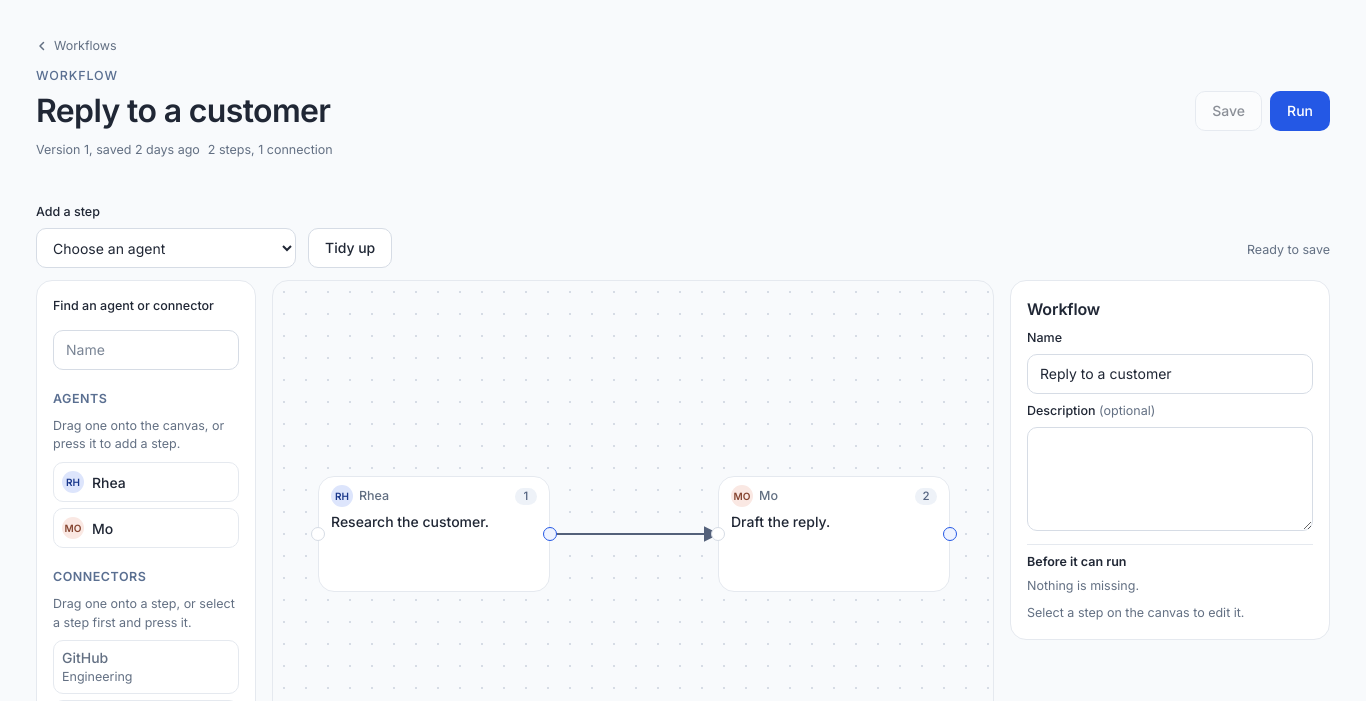
Test: Workflow editor › saves with the version it was loaded at, and shows the new version
expect the button with aria-label "Step 1:" is shown: met, box [318, 476, 550, 592]
Press Enter in the button with aria-label "Step 2:", box [718, 476, 950, 592]
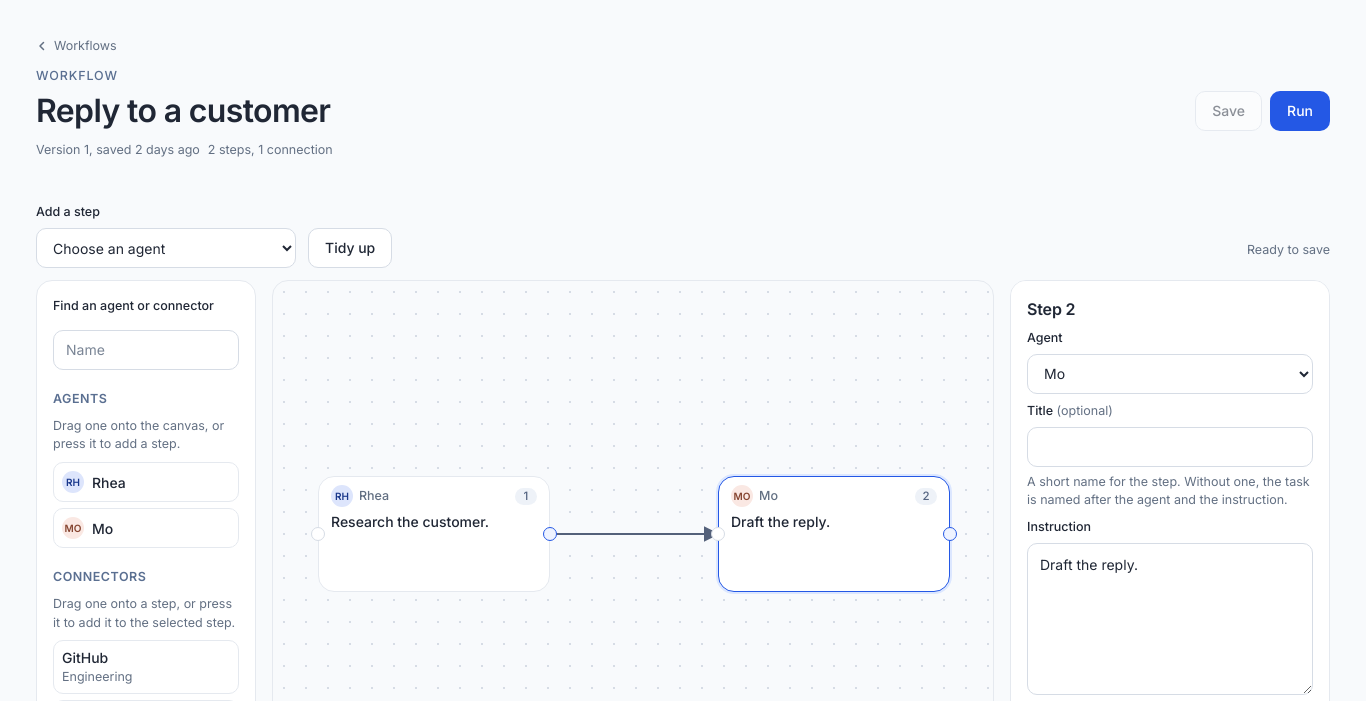
Replace the text in the text box labelled "Instruction" with "Draft a short reply." at (1170, 619), box [1027, 543, 1313, 695]
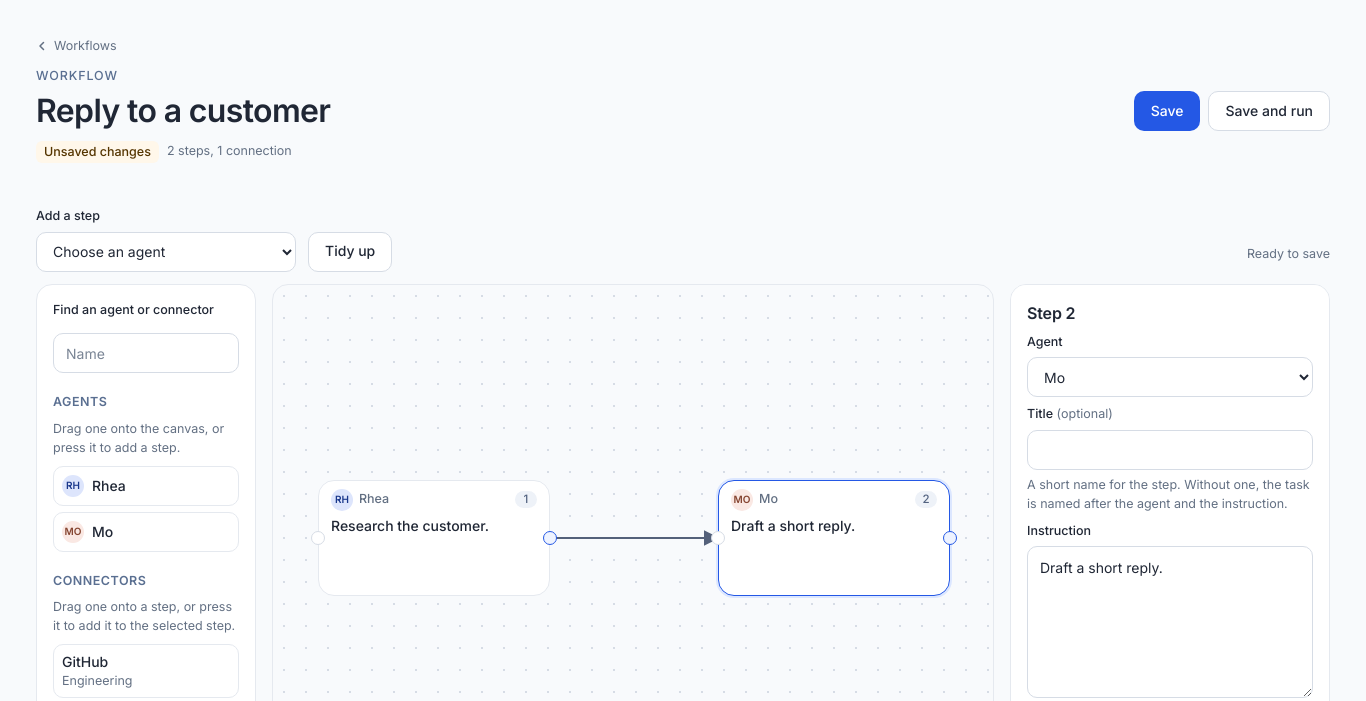
Click the button "Save".
click(1167, 111)  # box [1134, 91, 1200, 131]
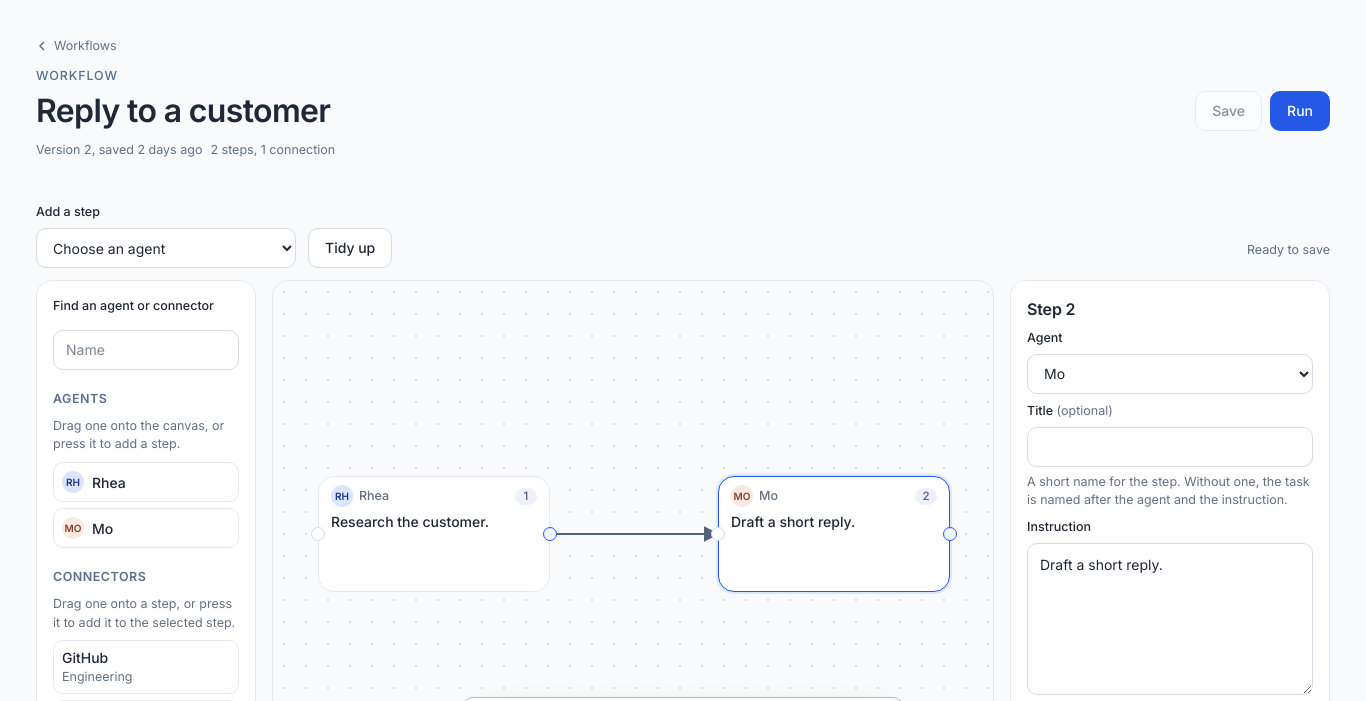
expect the text "Draft a short reply." is shown: met, box [731, 513, 855, 530]
expect the text "Version 2, saved 2 days ago" is shown: met, box [36, 141, 202, 160]
expect the text "Unsaved changes" is gone: met
